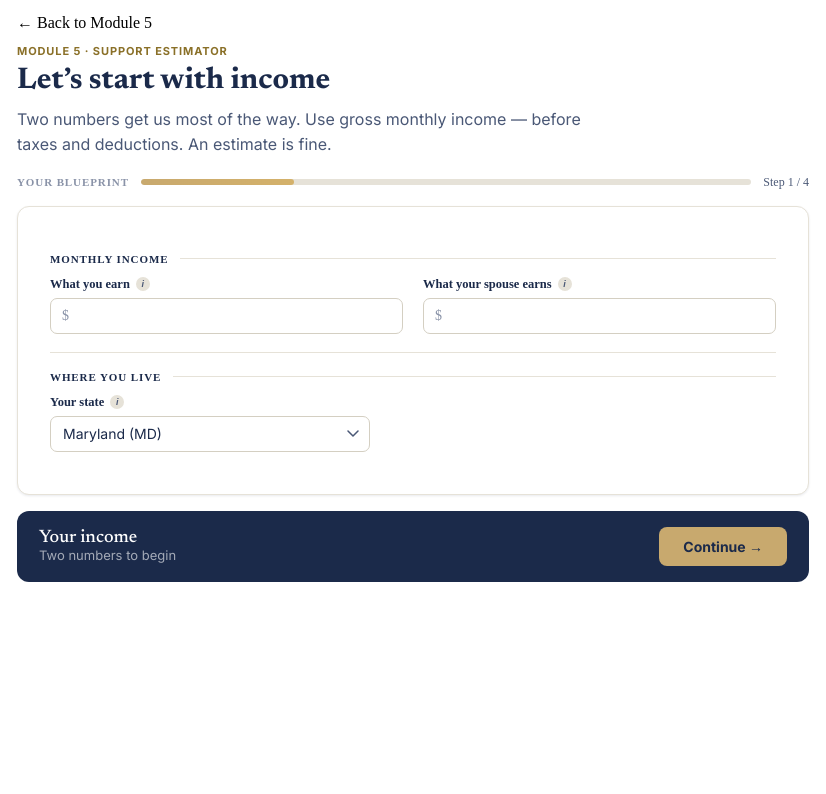
it: Support Estimator wizard flow › walks Income -> Children -> Marriage -> Results and computes live
The image size is (826, 794).
Type "2000" into the field with test id "wizard-field-input" showing "What you earn" at point(226, 316), box x1=50 y1=298 x2=403 y2=334
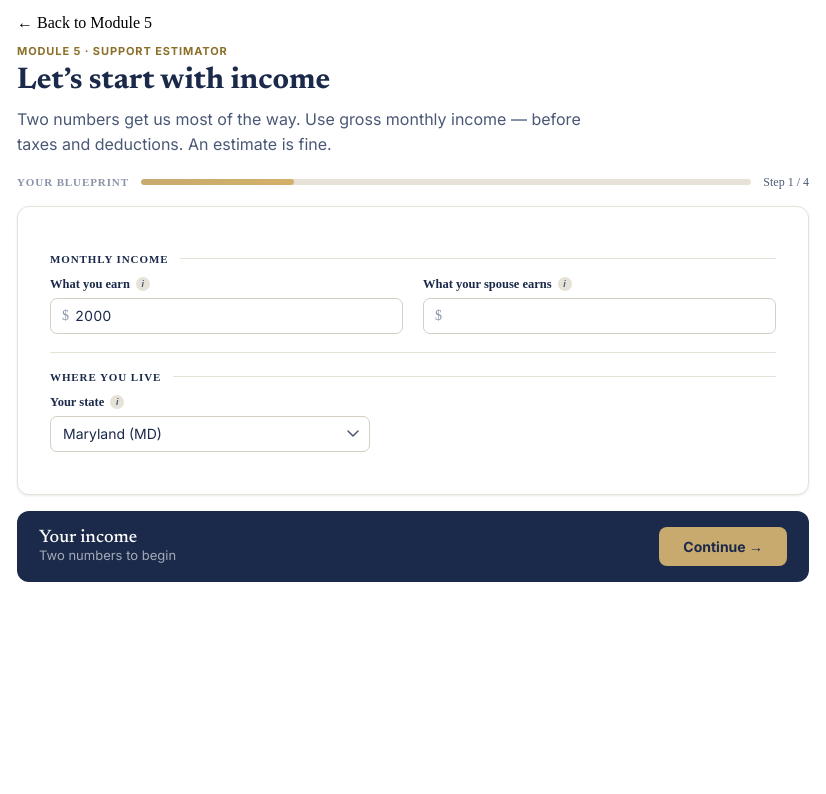
Type "12000" into the field with test id "wizard-field-input" showing "What your spouse earns" at point(600, 316), box x1=423 y1=298 x2=776 y2=334
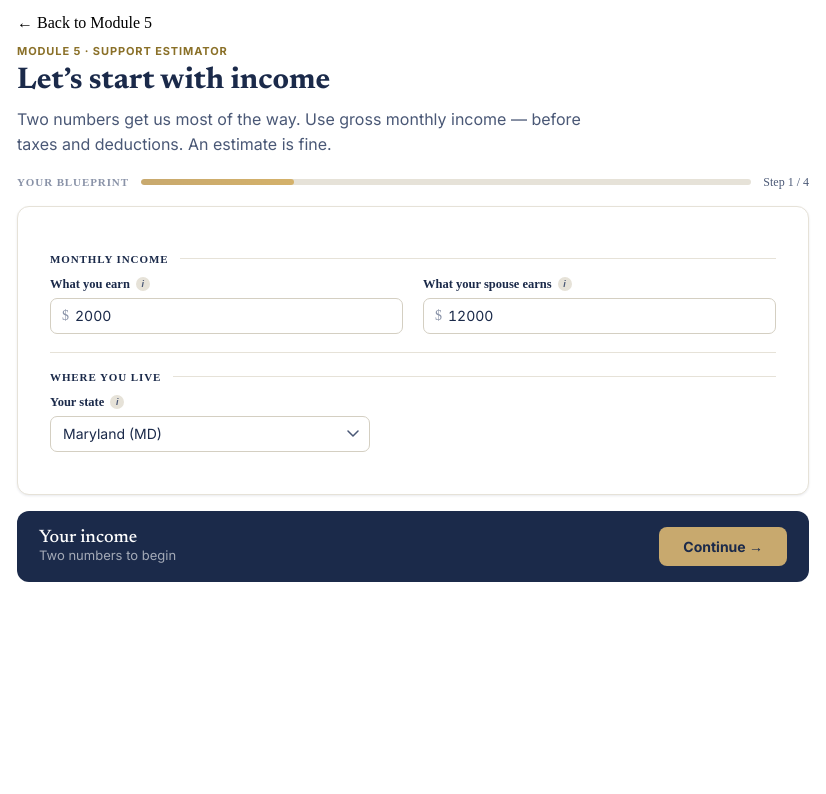
Click the button with test id "se-next" at point(723, 546), box x1=659 y1=527 x2=787 y2=566
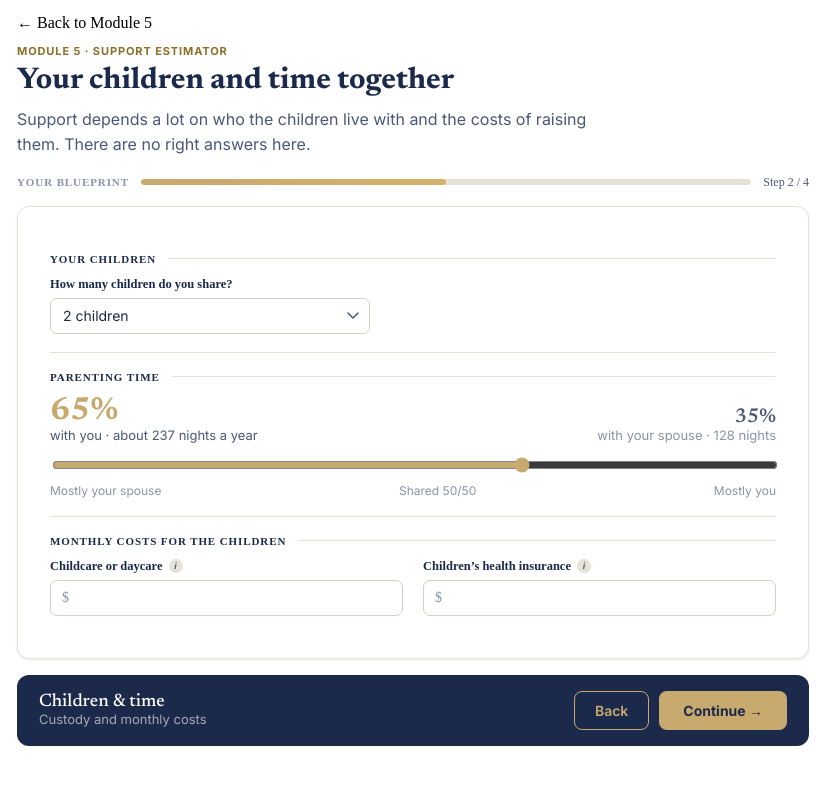
Result: the element with test id "se-step-children" is shown at x1=50 y1=235 x2=776 y2=634
Click the button with test id "se-next" at point(723, 710), box x1=659 y1=691 x2=787 y2=730
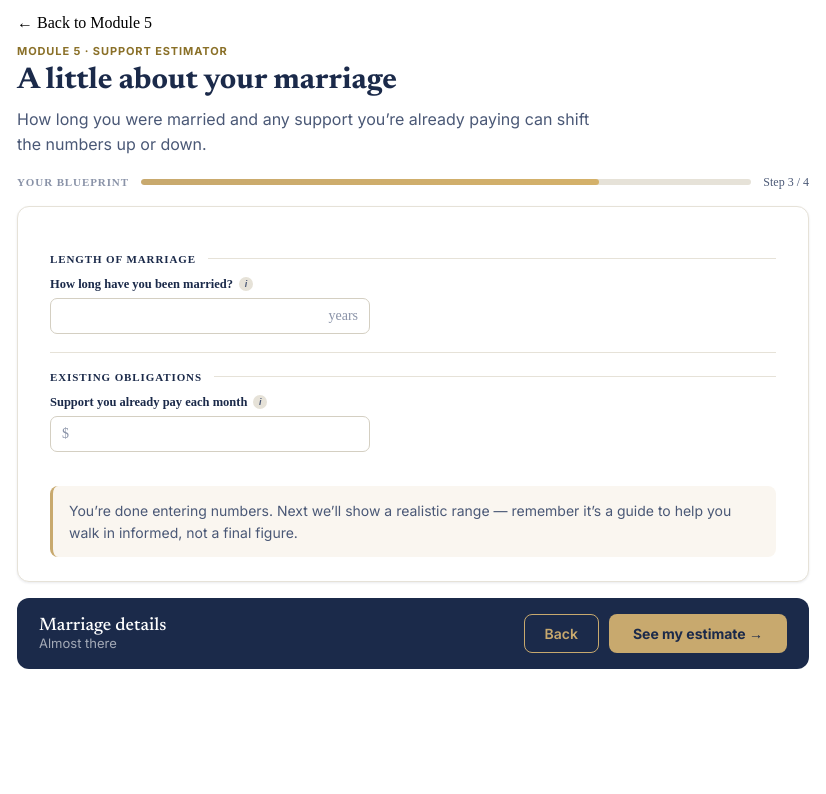
Result: the element with test id "se-step-marriage" is shown at x1=50 y1=235 x2=776 y2=557
Click the button with test id "se-next" at point(698, 634), box x1=609 y1=614 x2=787 y2=653
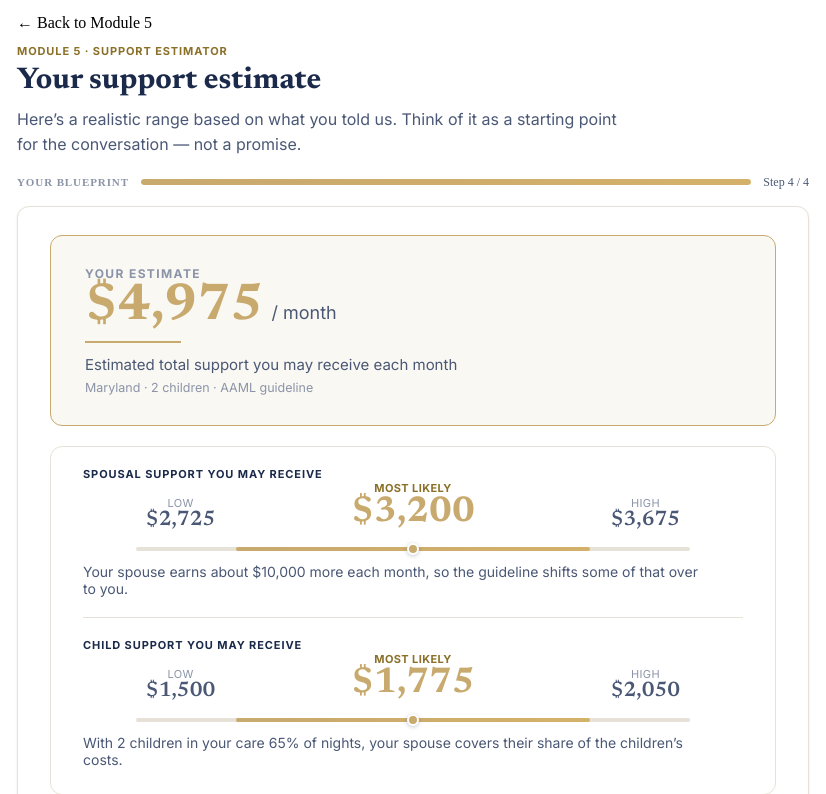
Result: the text with test id "se-headline" reads "$4,975" at x1=85 y1=281 x2=263 y2=333
